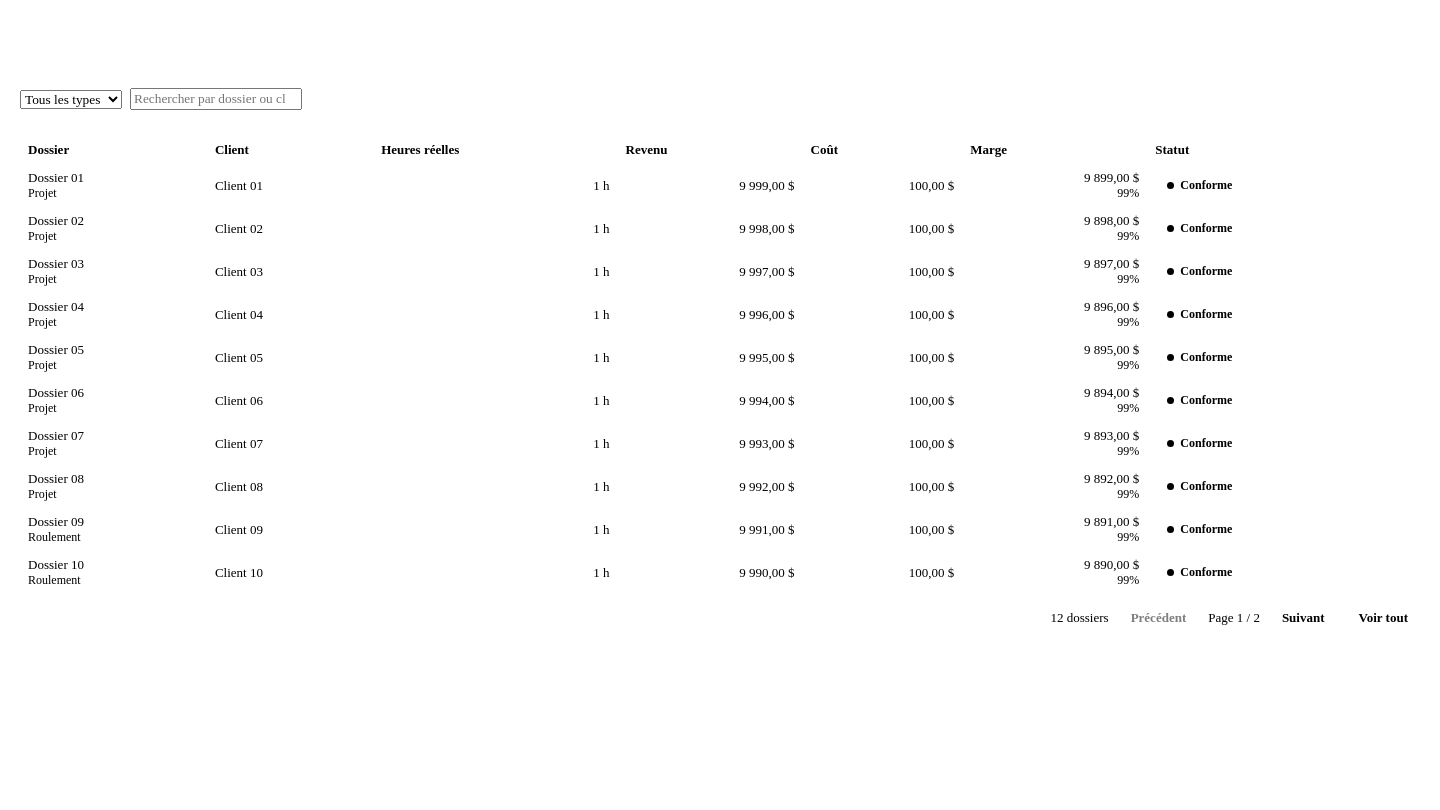
Test case: ReportsPage — pagination, filtre par type, recherche du comparatif › le bouton Suivant affiche la page 2
The image size is (1440, 810).
Expected: the text "Client 01" is shown, [207,164,373,207]
Click the button "Suivant". click: (1303, 618)
box: [1270,604,1336,632]
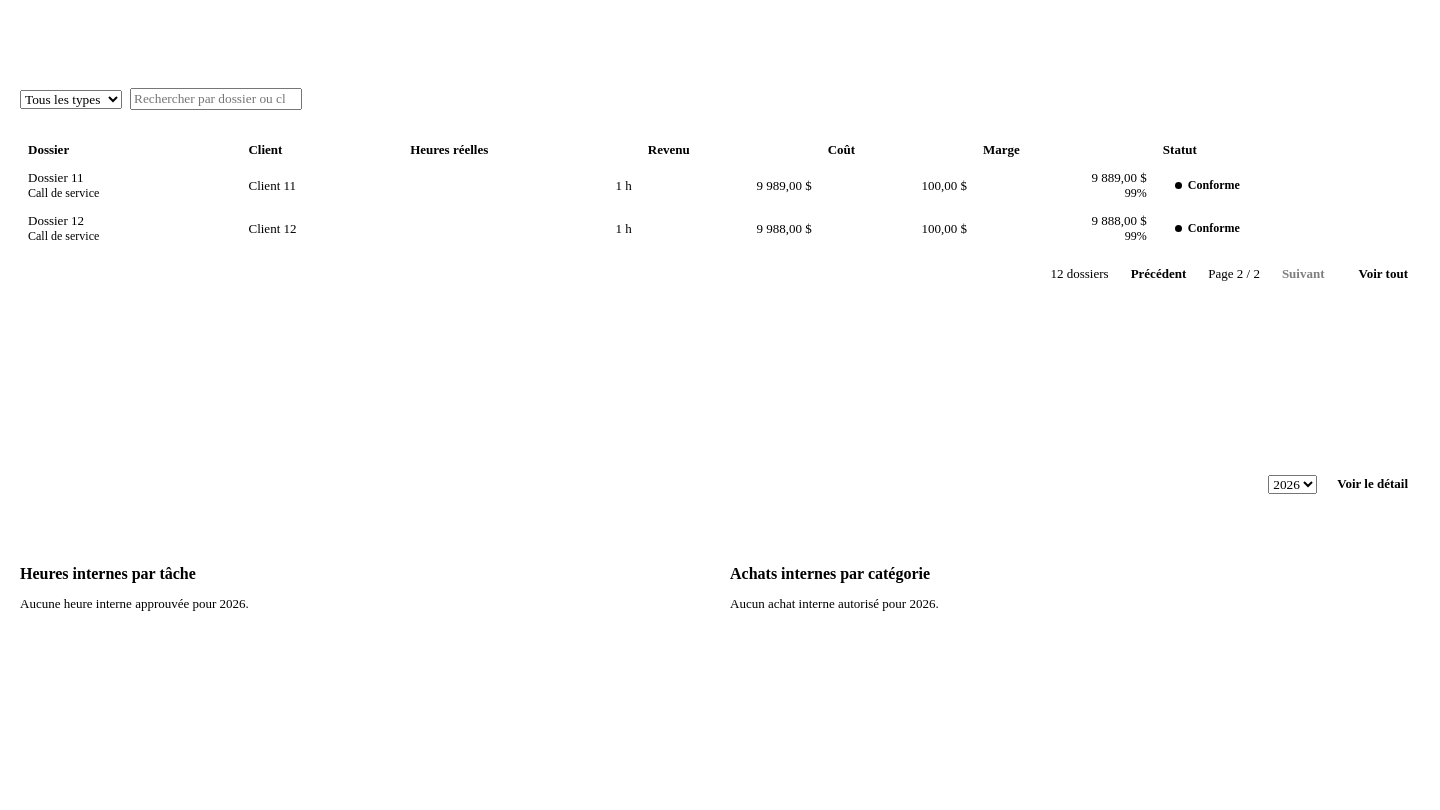
Now the text "Client 11" is shown, box [240,164,402,207]
Now the text "Client 01" is gone
Now the text "Page 2 / 2" is shown, box [1208,266,1260,282]
